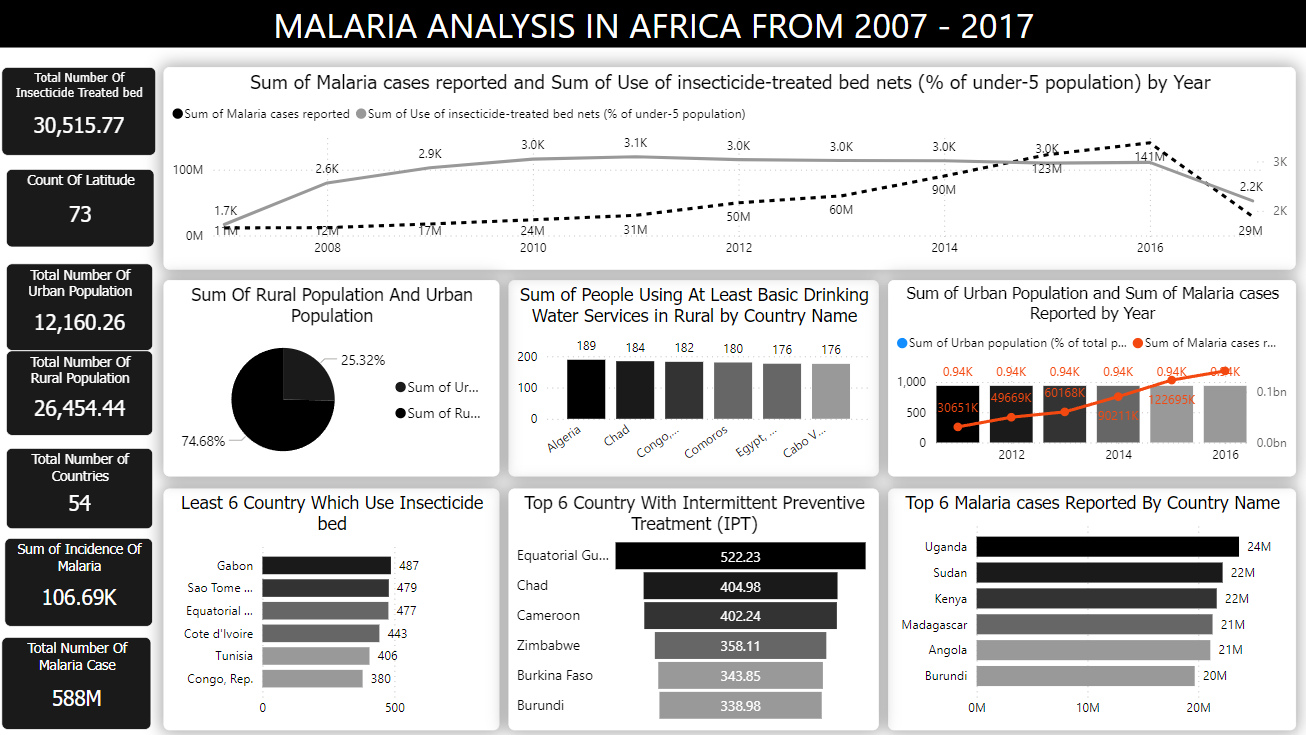

The page's visual inventory and layout, read from the dashboard file:
{"tool":"powerbi","page":{"name":"Page 1","canvas":[1280,720],"ordinal":0},"visuals":[{"type":"textbox","title":"MALARIA ANALYSIS IN AFRICA FROM 2007 - 2017","box":[0,0,1279.4,48],"z":0},{"type":"barChart","title":"Top 6 Malaria cases Reported By Country Name","fields":{"Category":["DatasetAfricaMalaria.Country Name"],"Y":["Sum(DatasetAfricaMalaria.Malaria cases reported)"]},"box":[867.5,476,395.9,234.3],"z":1000},{"type":"columnChart","title":"Sum of People Using At Least Basic Drinking Water Services in Rural by Country Name","fields":{"Category":["DatasetAfricaMalaria.Country Name"],"Y":["Sum(DatasetAfricaMalaria.People using at least basic drinking water services, rural (% of rural population))"]},"box":[499.3,273.6,359.5,190.7],"z":2000},{"type":"clusteredBarChart","title":"Least 6 Country Which Use Insecticide bed","fields":{"Category":["DatasetAfricaMalaria.Country Name"],"Y":["Sum(DatasetAfricaMalaria.Use of insecticide-treated bed nets (% of under-5 population))"]},"box":[164.5,476,326,234.3],"z":3000},{"type":"lineChart","fields":{"Category":["DatasetAfricaMalaria.Year"],"Y":["Sum(DatasetAfricaMalaria.Malaria cases reported)"],"Y2":["Sum(DatasetAfricaMalaria.Use of insecticide-treated bed nets (% of under-5 population))"]},"box":[164.5,67,1098.9,196.5],"z":4000},{"type":"lineStackedColumnComboChart","title":"Sum of Urban Population  and Sum of Malaria cases Reported by Year","fields":{"Category":["DatasetAfricaMalaria.Year"],"Y":["Sum(DatasetAfricaMalaria.Urban population (% of total population))"],"Y2":["Sum(DatasetAfricaMalaria.Malaria cases reported)"]},"box":[867.5,273.6,395.9,190.7],"z":5000},{"type":"pieChart","title":"Sum Of Rural Population And Urban Population","fields":{"Y":["Sum(DatasetAfricaMalaria.Urban population (% of total population))","Sum(DatasetAfricaMalaria.Rural population (% of total population))"]},"box":[164.5,273.6,326,190.7],"z":6000},{"type":"card","title":"Sum of Incidence Of Malaria ","fields":{"Values":["Sum(DatasetAfricaMalaria.Incidence of malaria (per 1,000 population at risk))"]},"box":[10.2,524,144.1,85.9],"z":7000},{"type":"funnel","title":"Top 6 Country With Intermittent Preventive Treatment (IPT)","fields":{"Category":["DatasetAfricaMalaria.Country Name"],"Y":["Sum(DatasetAfricaMalaria.Intermittent preventive treatment (IPT) of malaria in pregnancy (% of pregnant women))"]},"box":[499.3,476,359.5,234.3],"z":8000},{"type":"card","title":"Total Number of Countries","fields":{"Values":["Count(DatasetAfricaMalaria.Country Name)"]},"box":[11.6,436.7,142.6,78.6],"z":9000},{"type":"card","title":"Total Number Of Insecticide Treated bed","fields":{"Values":["Sum(DatasetAfricaMalaria.Use of insecticide-treated bed nets (% of under-5 population))"]},"box":[7.3,67,149.9,85.9],"z":10000},{"type":"card","title":"Total Number Of Malaria Case","fields":{"Values":["Sum(DatasetAfricaMalaria.Malaria cases reported)"]},"box":[7.3,620.1,145.6,90.2],"z":11000},{"type":"card","title":"Count Of Latitude","fields":{"Values":["Count(DatasetAfricaMalaria.latitude)"]},"box":[11.6,165.9,144.1,75.7],"z":12000},{"type":"card","title":"Total Number Of Urban Population","fields":{"Values":["Sum(DatasetAfricaMalaria.Urban population (% of total population))"]},"box":[11.6,257.6,142.6,84.4],"z":13000},{"type":"card","title":"Total Number Of Rural Population","fields":{"Values":["Sum(DatasetAfricaMalaria.Rural population (% of total population))"]},"box":[11.6,342.1,142.6,83],"z":14000}]}

Visuals, with their boxes in screenshot pixels (x1, y1, x2, y2), scaled from the page's 1280x720 canvas onto the 1306x735 screenshot:
"MALARIA ANALYSIS IN AFRICA FROM 2007 - 2017" textbox: (x1=0, y1=0, x2=1305, y2=49)
"Top 6 Malaria cases Reported By Country Name" barChart: (x1=885, y1=486, x2=1289, y2=725)
"Sum of People Using At Least Basic Drinking Water Services in Rural by Country Name" columnChart: (x1=509, y1=279, x2=876, y2=474)
"Least 6 Country Which Use Insecticide bed" clusteredBarChart: (x1=168, y1=486, x2=500, y2=725)
lineChart - DatasetAfricaMalaria.Year x Sum(DatasetAfricaMalaria.Malaria cases reported): (x1=168, y1=68, x2=1289, y2=269)
"Sum of Urban Population  and Sum of Malaria cases Reported by Year" lineStackedColumnComboChart: (x1=885, y1=279, x2=1289, y2=474)
"Sum Of Rural Population And Urban Population" pieChart: (x1=168, y1=279, x2=500, y2=474)
"Sum of Incidence Of Malaria " card: (x1=10, y1=535, x2=157, y2=623)
"Top 6 Country With Intermittent Preventive Treatment (IPT)" funnel: (x1=509, y1=486, x2=876, y2=725)
"Total Number of Countries" card: (x1=12, y1=446, x2=157, y2=526)
"Total Number Of Insecticide Treated bed" card: (x1=7, y1=68, x2=160, y2=156)
"Total Number Of Malaria Case" card: (x1=7, y1=633, x2=156, y2=725)
"Count Of Latitude" card: (x1=12, y1=169, x2=159, y2=247)
"Total Number Of Urban Population" card: (x1=12, y1=263, x2=157, y2=349)
"Total Number Of Rural Population" card: (x1=12, y1=349, x2=157, y2=434)
